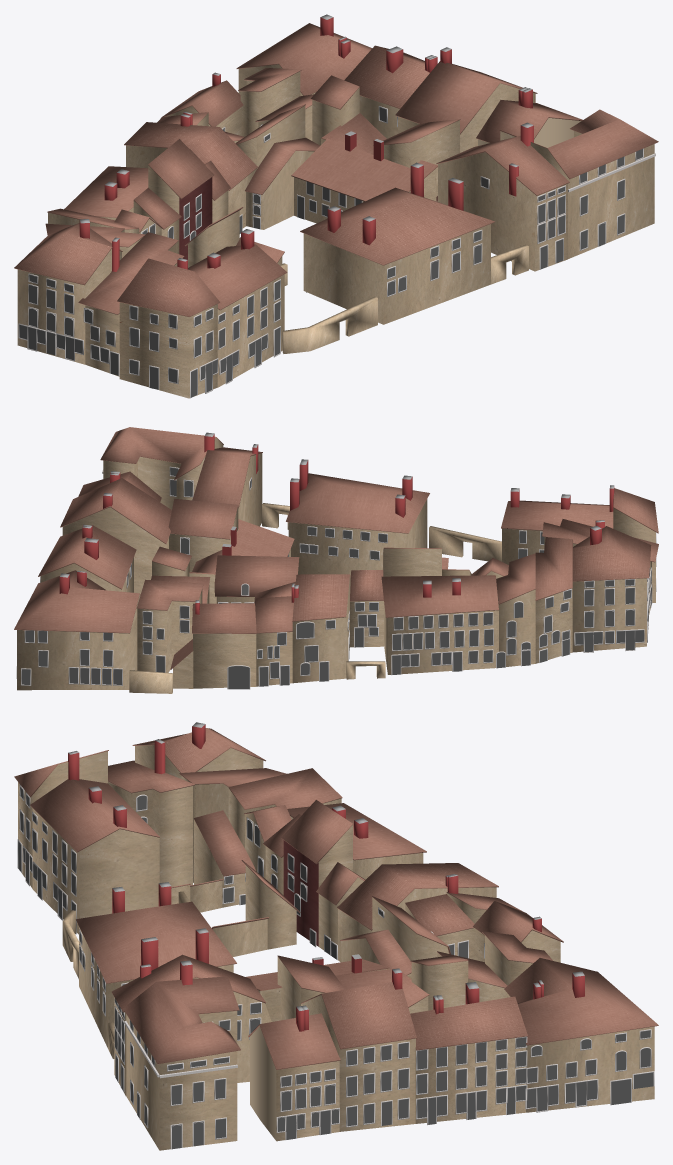
File: ilot28combine.fbx
The picture shows the model from 3 angles, top to bottom: view 1: azimuth 30°, elevation 25°; view 2: azimuth 150°, elevation 25°; view 3: azimuth 270°, elevation 25°; orthographic projection. The views are drawn at different scales.
Parts seen in each view (by area): view 1: _ILOT28BAT16, _ILOT28BAT29, _ILOT28BAT14, _ILOT28BAT1, _ILOT28BAT18, _ILOT28BAT28, _ILOT28BAT20, _ILOT28BAT2, _ILOT28BAT31, _ILOT28BAT3, _ILOT28BAT30, _ILOT28BAT9 (+19 smaller); view 2: _ILOT28BAT3, _ILOT28BAT16, _ILOT28BAT24, _ILOT28BAT18, _ILOT28BAT31, _ILOT28BAT2, _ILOT28BAT1, _ILOT28BAT5, _ILOT28BAT4, _ILOT28BAT27, _ILOT28BAT9, _ILOT28BAT14 (+20 smaller); view 3: _ILOT28BAT1, _ILOT28BAT3, _ILOT28BAT28, _ILOT28BAT9, _ILOT28BAT2, _ILOT28BAT16, _ILOT28BAT13, _ILOT28BAT17, _ILOT28BAT30, _ILOT28BAT31, _ILOT28BAT14, _ILOT28BAT18 (+23 smaller).
Boxes of the visible parts, x1,y1,x2,y2 form: _ILOT28BAT16: (300, 162, 494, 324); _ILOT28BAT29: (117, 258, 220, 398); _ILOT28BAT14: (436, 122, 569, 271); _ILOT28BAT1: (499, 109, 658, 258); _ILOT28BAT18: (14, 219, 122, 364); _ILOT28BAT28: (177, 229, 287, 387); _ILOT28BAT20: (291, 131, 437, 223); _ILOT28BAT2: (395, 47, 537, 152); _ILOT28BAT31: (124, 111, 257, 233); _ILOT28BAT3: (236, 14, 372, 95); _ILOT28BAT30: (78, 232, 184, 376); _ILOT28BAT9: (344, 45, 437, 138); _ILOT28BAT3: (14, 570, 140, 690); _ILOT28BAT16: (286, 459, 429, 577); _ILOT28BAT24: (381, 575, 498, 675); _ILOT28BAT18: (572, 520, 651, 652); _ILOT28BAT31: (291, 574, 350, 683); _ILOT28BAT2: (60, 478, 171, 594); _ILOT28BAT1: (100, 427, 223, 509); _ILOT28BAT5: (192, 600, 256, 689); _ILOT28BAT4: (136, 579, 203, 672); _ILOT28BAT27: (535, 537, 572, 663); _ILOT28BAT9: (38, 524, 136, 592); _ILOT28BAT14: (192, 432, 262, 526); _ILOT28BAT1: (123, 976, 240, 1150); _ILOT28BAT3: (504, 958, 658, 1112); _ILOT28BAT28: (30, 751, 159, 934); _ILOT28BAT9: (410, 982, 527, 1125); _ILOT28BAT2: (301, 968, 416, 1131); _ILOT28BAT16: (76, 882, 236, 1048); _ILOT28BAT13: (248, 1005, 340, 1141); _ILOT28BAT17: (281, 800, 352, 947); _ILOT28BAT30: (108, 760, 194, 886); _ILOT28BAT31: (337, 863, 498, 962); _ILOT28BAT14: (111, 954, 265, 1095); _ILOT28BAT18: (132, 722, 265, 784).
Bounding box in the file's own units: 15.07 × 3.09 × 12.53.
